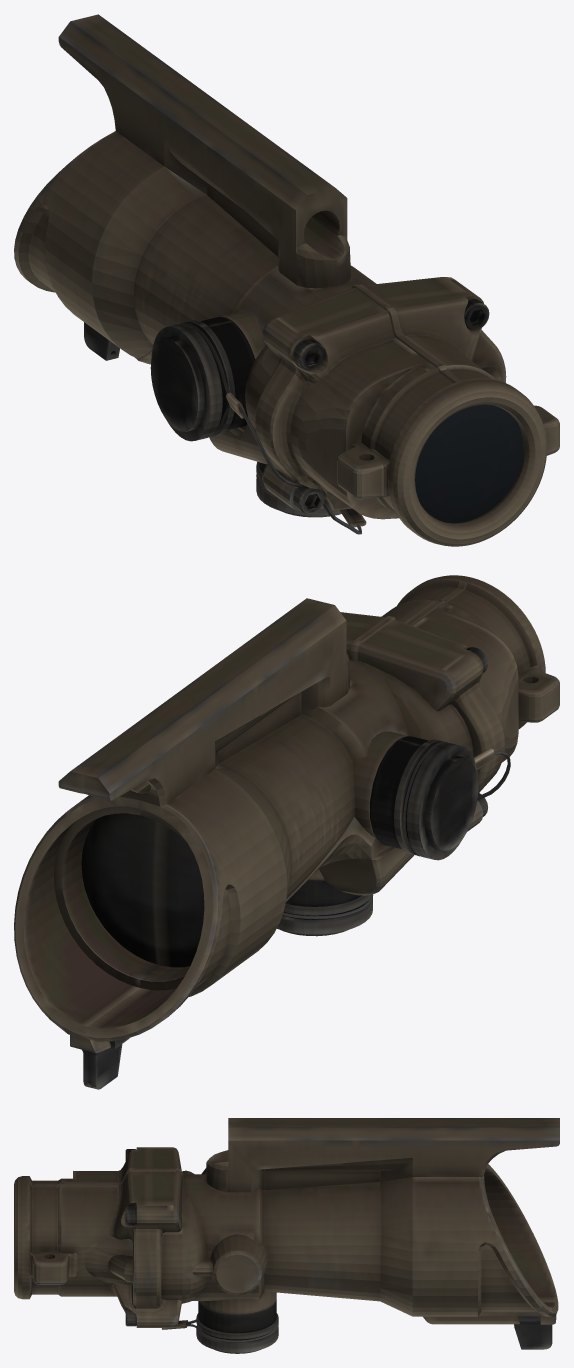
The picture shows the model from 3 angles, top to bottom: view 1: azimuth 30°, elevation 25°; view 2: azimuth 150°, elevation 25°; view 3: azimuth 270°, elevation 25°; orthographic projection. The views are drawn at different scales.
Visible parts, largest first — view 1: TW_5c052a900db834001a66acbd_PZ_Import; view 2: TW_5c052a900db834001a66acbd_PZ_Import; view 3: TW_5c052a900db834001a66acbd_PZ_Import.
Part boxes in pixels (bbox=[...]): TW_5c052a900db834001a66acbd_PZ_Import: bbox=[14, 14, 559, 546]; TW_5c052a900db834001a66acbd_PZ_Import: bbox=[14, 575, 559, 1089]; TW_5c052a900db834001a66acbd_PZ_Import: bbox=[14, 1118, 559, 1353].
Size of the model in its own units: 0.032 by 0.0837 by 0.038.
1 material, 1 textured.
